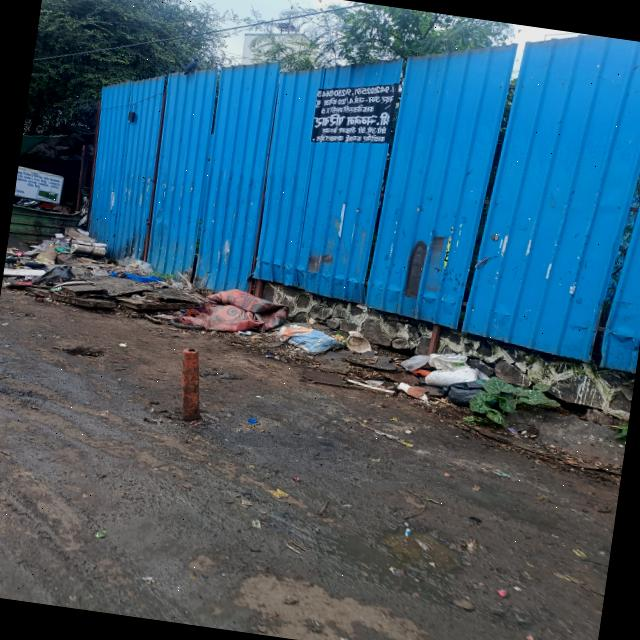garbage: (205, 285, 569, 455), (0, 221, 212, 330)
